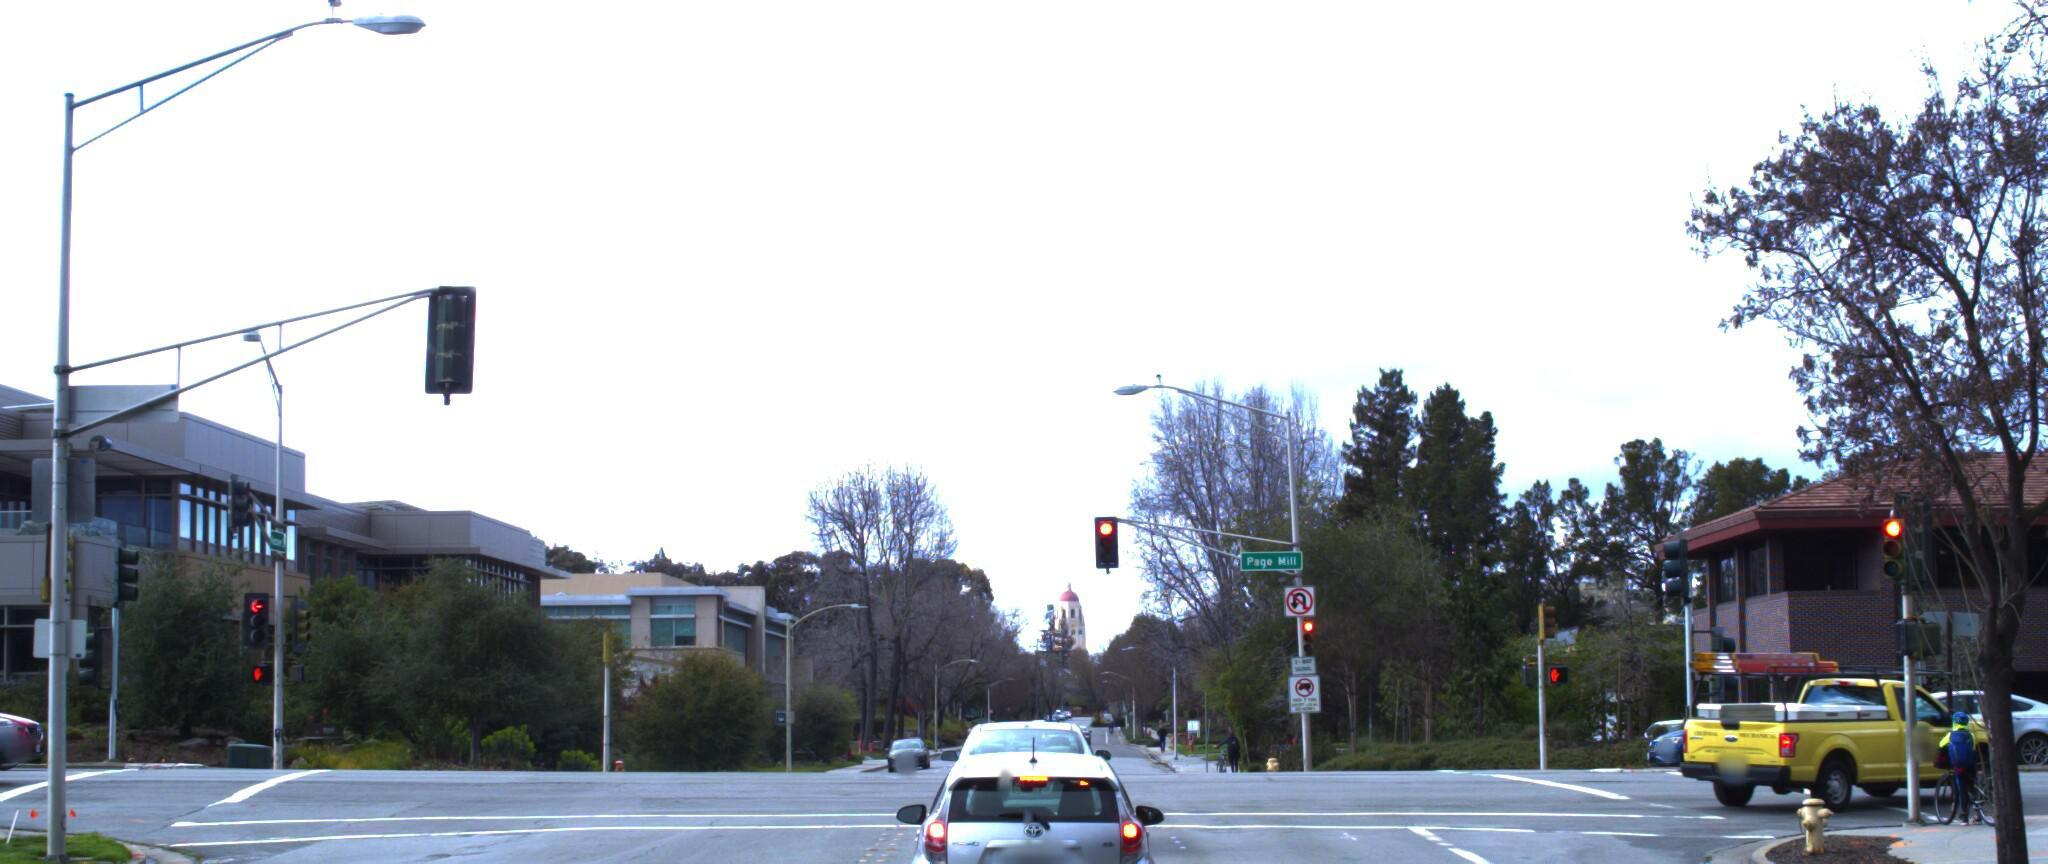bicycle: (1890, 696, 2023, 816)
car: (1657, 641, 2022, 809), (899, 730, 1183, 864), (1789, 660, 2048, 773), (936, 707, 1123, 854), (0, 660, 50, 780), (2000, 673, 2048, 765)
